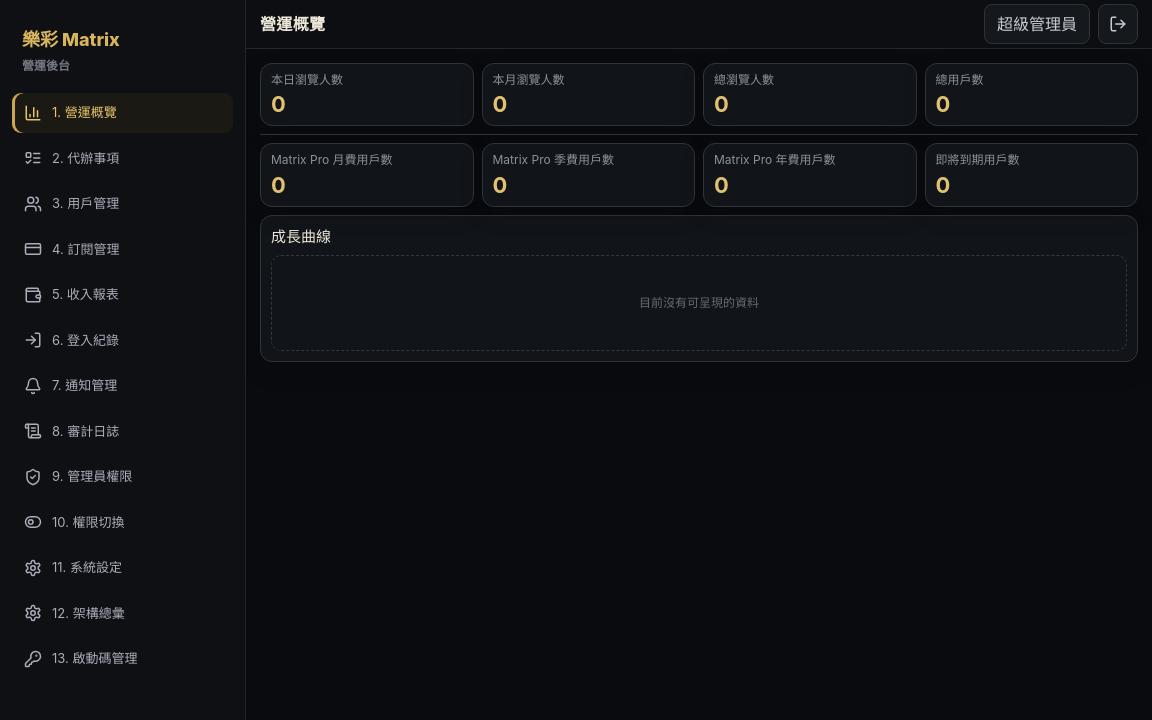
administrator operation permission editing › switches among three subscription tabs without mixing their controls
Click the button "4. 訂閱管理". click: click(122, 249)
box: [12,230,233,269]
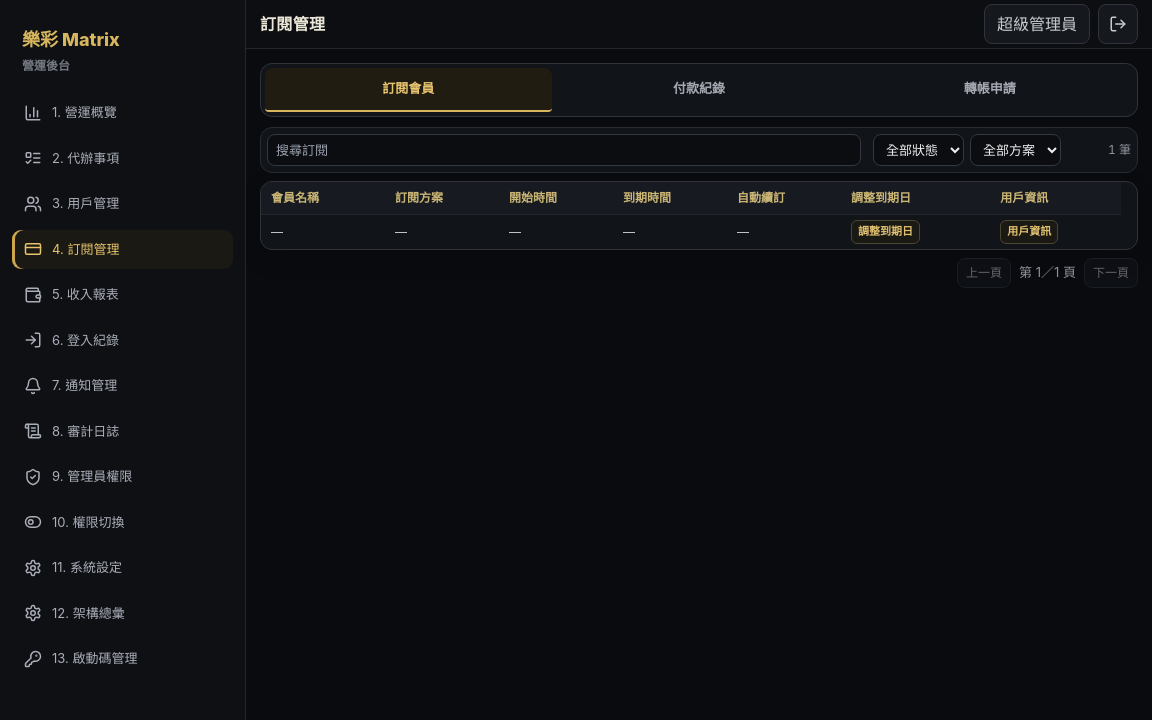
Expected: the dropdown named "篩選訂閱方案" is shown
Select "月費" in the dropdown named "篩選訂閱方案". click: (1016, 150)
box: [970,134,1061,166]
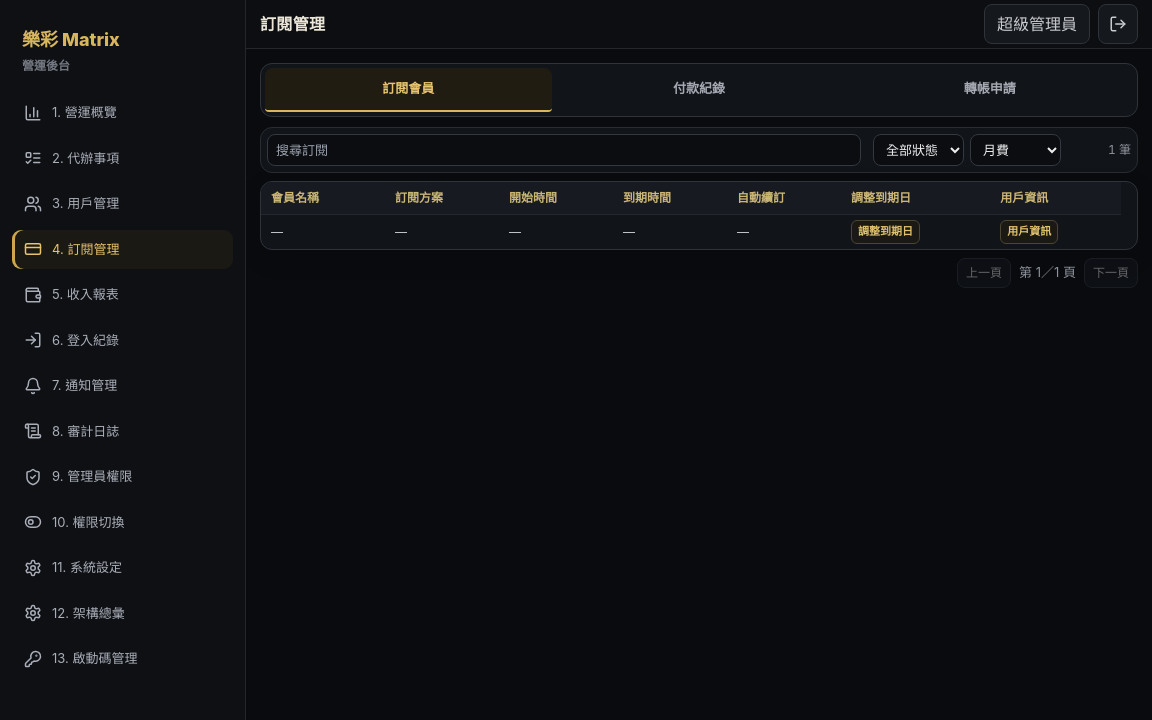
Press ArrowRight in the tab "訂閱會員", box [265,68,552,112]
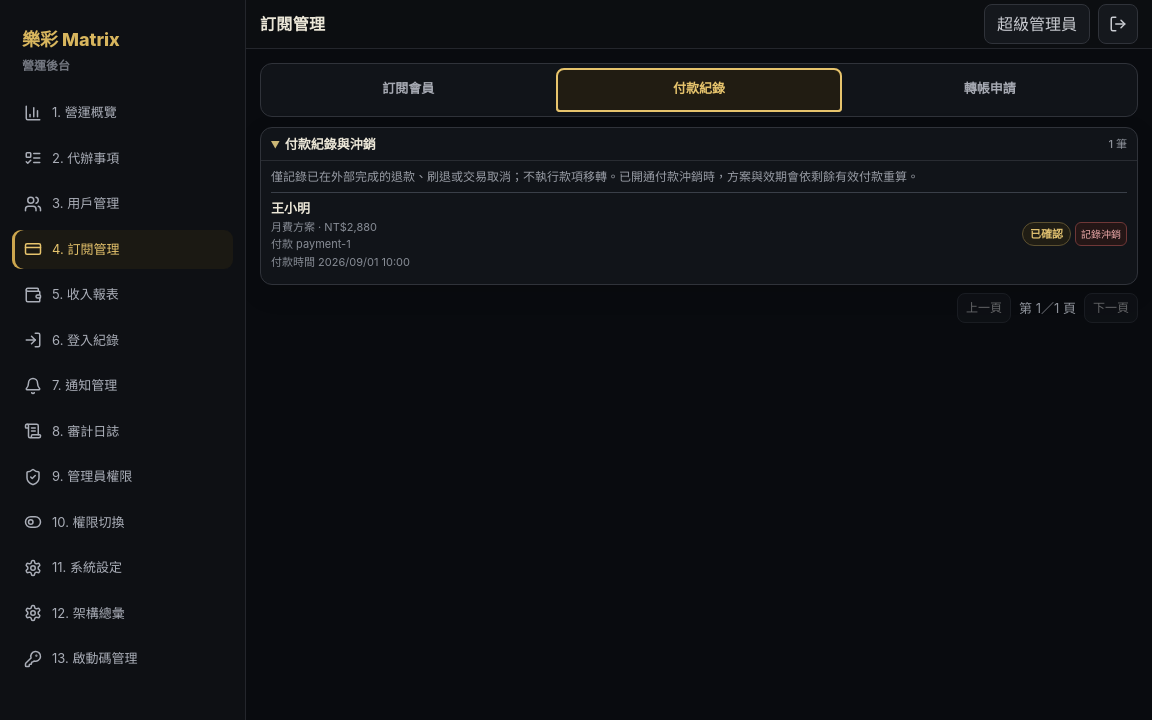
Expected: the dropdown named "篩選訂閱方案" is gone
Expected: the button with aria-label "記錄沖銷 payment-1" is shown, [1075,222,1127,246]
Click the tab "轉帳申請". click: click(990, 90)
box: [846,68,1133,112]
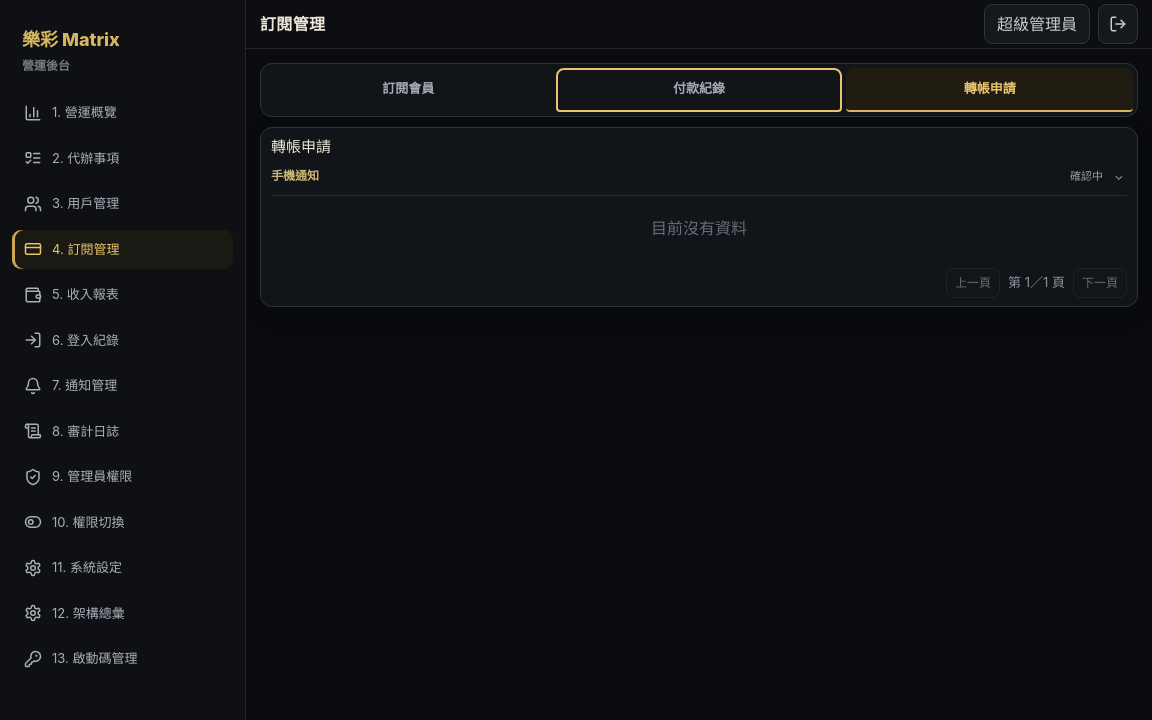
Expected: the element with class "transferPanel" is shown, [260,127,1138,307]
Click the tab "訂閱會員". click: click(408, 90)
box: [265,68,552,112]
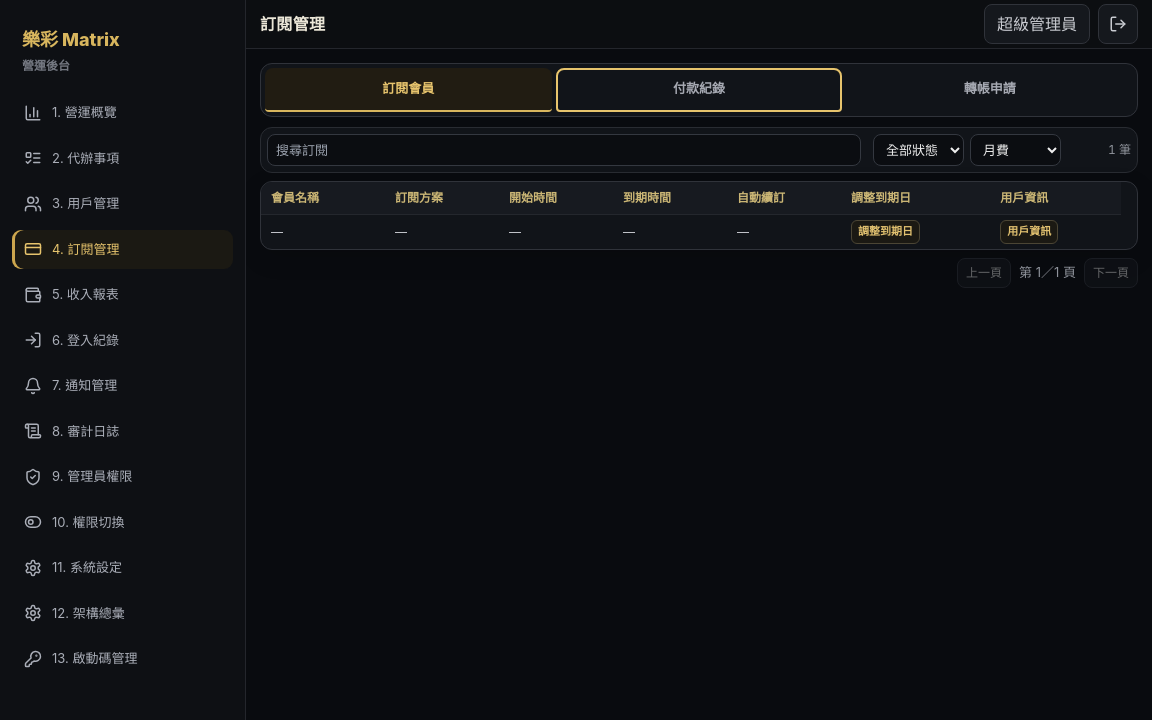
Expected: the dropdown named "篩選訂閱方案" shows "月費", [970,134,1061,166]
